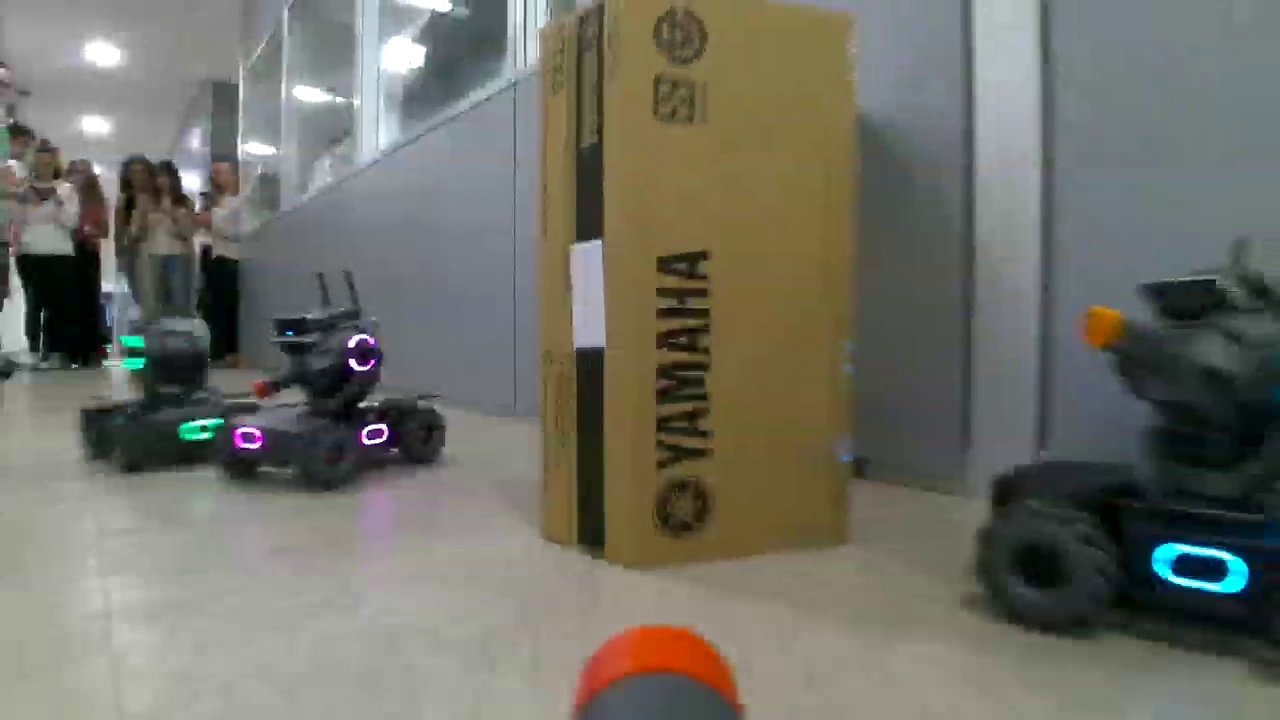robot: (982, 272, 1280, 689), (219, 316, 444, 493), (78, 314, 229, 477)
